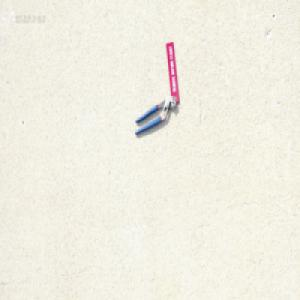Label: (165, 40, 179, 103)
Pliers: (134, 95, 176, 135)
